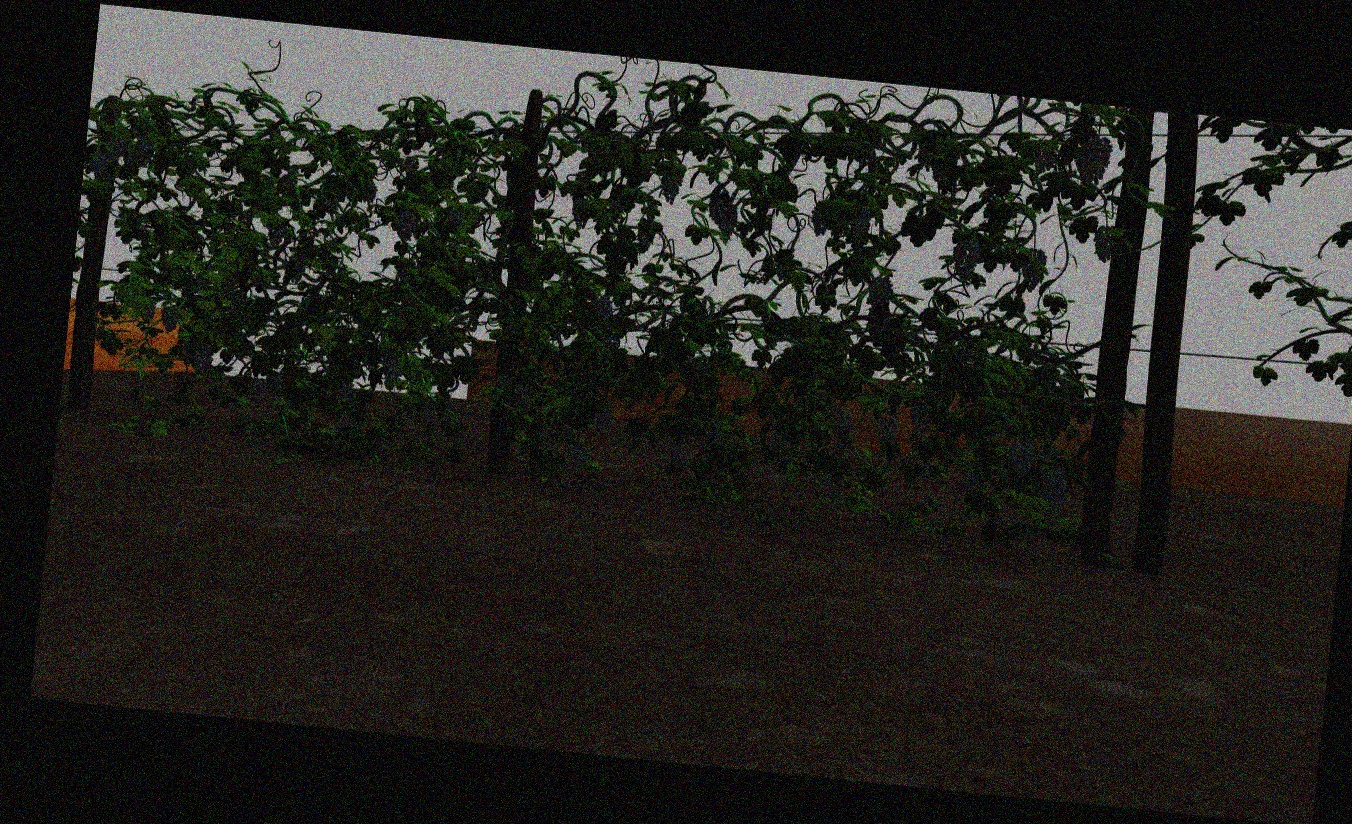grape: (1075, 135, 1113, 184), (951, 235, 981, 281), (1018, 247, 1046, 292), (1009, 438, 1035, 477), (660, 165, 684, 204), (910, 395, 932, 437), (1039, 493, 1066, 526), (867, 274, 893, 308), (1092, 224, 1114, 264), (1040, 466, 1068, 497), (832, 410, 853, 448), (875, 415, 898, 447), (666, 431, 686, 467), (192, 343, 214, 375), (959, 465, 983, 493), (395, 209, 416, 241), (567, 441, 588, 473), (134, 134, 154, 167), (852, 207, 873, 238), (810, 205, 830, 237), (571, 197, 590, 230), (719, 205, 737, 239), (1032, 148, 1056, 173), (265, 220, 286, 248), (103, 134, 124, 162), (512, 384, 532, 413), (768, 437, 792, 461), (244, 376, 265, 403), (160, 303, 179, 332), (593, 295, 615, 320), (594, 400, 613, 428), (382, 354, 401, 381), (88, 150, 107, 177), (708, 197, 726, 222), (419, 401, 437, 426), (269, 368, 286, 392), (336, 382, 355, 403), (141, 299, 156, 324), (446, 208, 463, 226), (492, 373, 511, 389), (403, 154, 420, 171), (605, 335, 620, 348)
